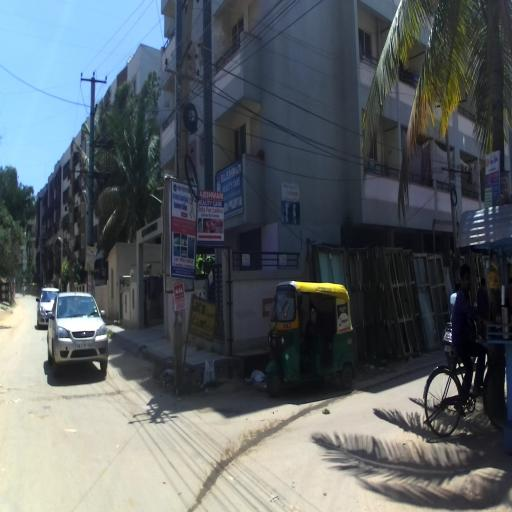street_light_0: (58, 237, 69, 251)
